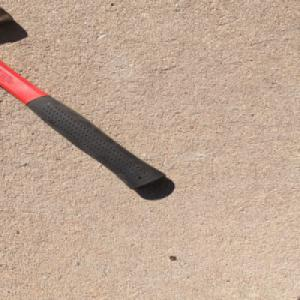Hammer: (0, 4, 169, 191)
